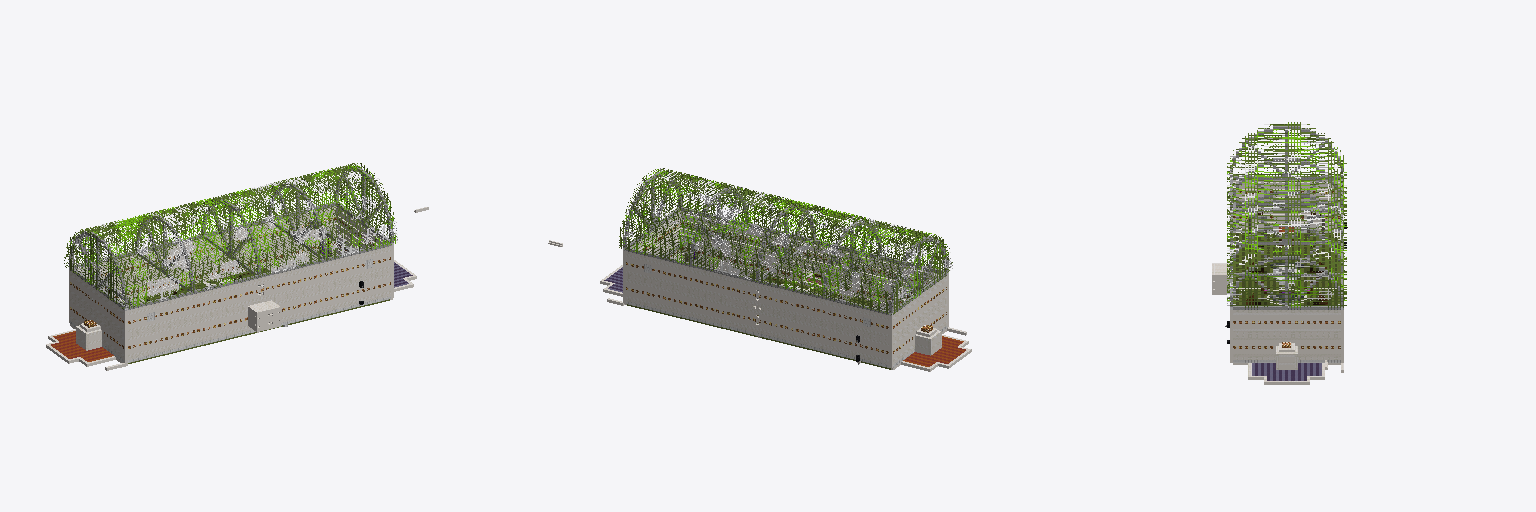
3 views of the same model, side by side, from view 1: azimuth 30°, elevation 25°; view 2: azimuth 150°, elevation 25°; view 3: azimuth 270°, elevation 25° (orthographic).
Size of the model in its own units: 147 by 41 by 44.55.
Materials: 53 (52 with a texture image).